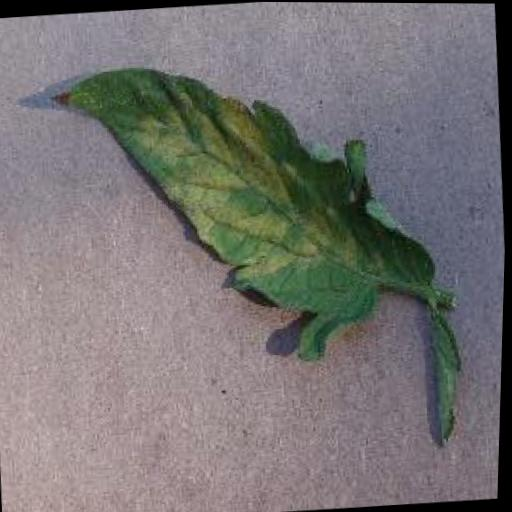Leaf Mold: (46, 43, 442, 375)
